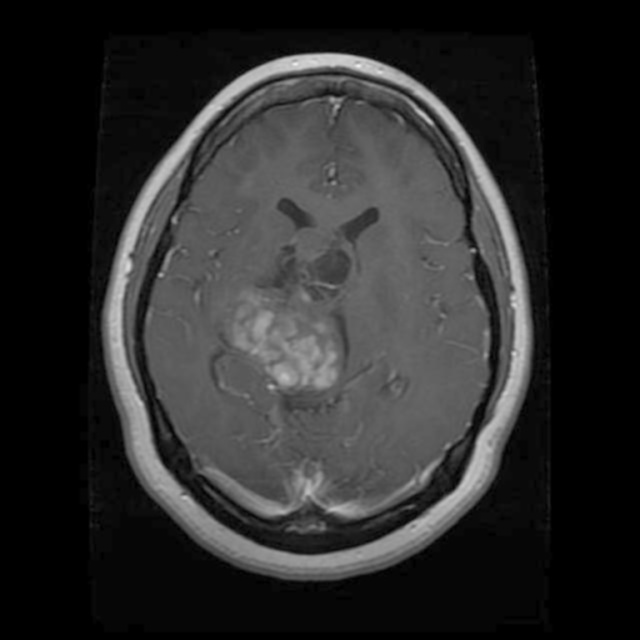pituitary tumor: (231, 290, 341, 389)
